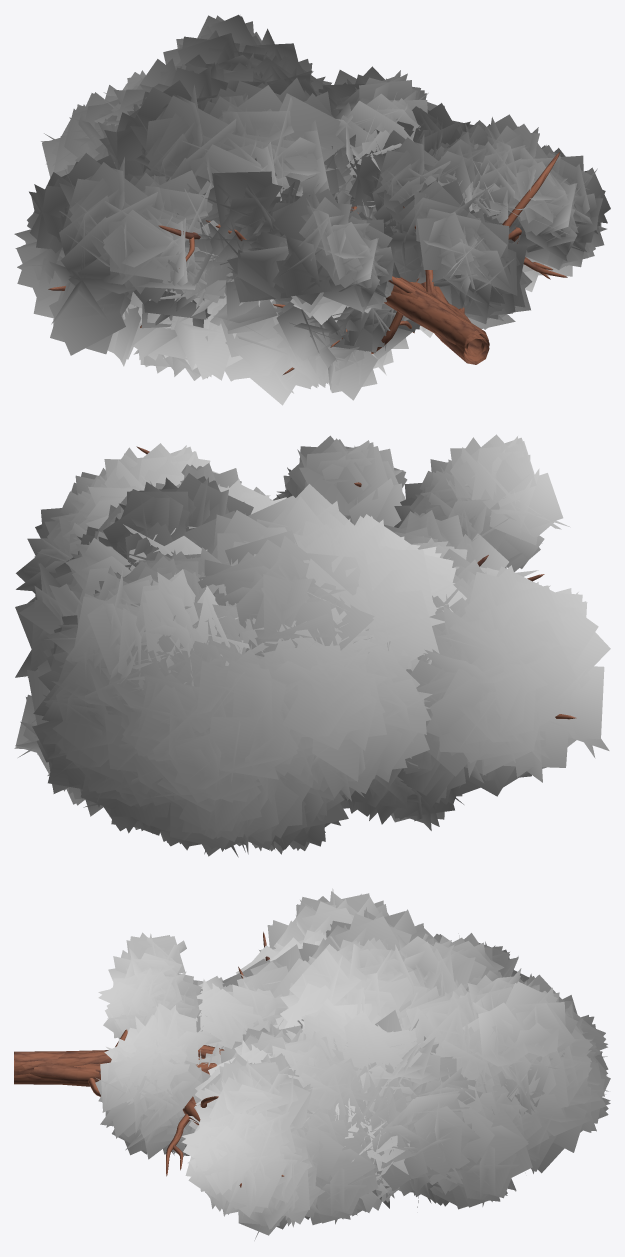
File: Trees.fbx
The picture shows the model from 3 angles, top to bottom: view 1: azimuth 30°, elevation 25°; view 2: azimuth 150°, elevation 25°; view 3: azimuth 270°, elevation 25°; orthographic projection. The views are drawn at different scales.
Parts seen in each view (by area): view 1: NormalTree_3, NormalTree_4, NormalTree_5, NormalTree_2, NormalTree_1; view 2: NormalTree_1, NormalTree_4, NormalTree_2, NormalTree_3, NormalTree_5; view 3: NormalTree_3, NormalTree_1, NormalTree_2, NormalTree_5, NormalTree_4.
Part boxes in pixels (left/top/right/bottom): NormalTree_3: left=99, top=77, right=610, bottom=405; NormalTree_4: left=14, top=103, right=513, bottom=366; NormalTree_5: left=272, top=177, right=532, bottom=400; NormalTree_2: left=94, top=14, right=519, bottom=380; NormalTree_1: left=41, top=52, right=488, bottom=380; NormalTree_1: left=14, top=473, right=480, bottom=857; NormalTree_4: left=49, top=466, right=610, bottom=807; NormalTree_2: left=15, top=463, right=498, bottom=806; NormalTree_3: left=16, top=443, right=538, bottom=669; NormalTree_5: left=273, top=434, right=570, bottom=572; NormalTree_3: left=14, top=907, right=438, bottom=1240; NormalTree_1: left=14, top=939, right=610, bottom=1209; NormalTree_2: left=98, top=928, right=577, bottom=1219; NormalTree_5: left=29, top=932, right=223, bottom=1159; NormalTree_4: left=14, top=888, right=439, bottom=1224.
Bounding box in the file's own units: 622 × 300 × 687.
